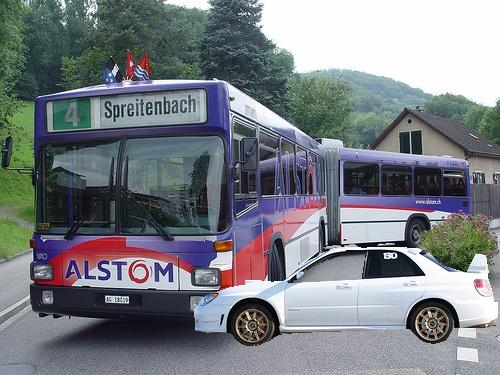tampered: (195, 248, 498, 346)
